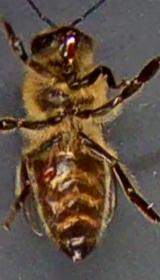varroa_mite: (34, 156, 62, 187)
